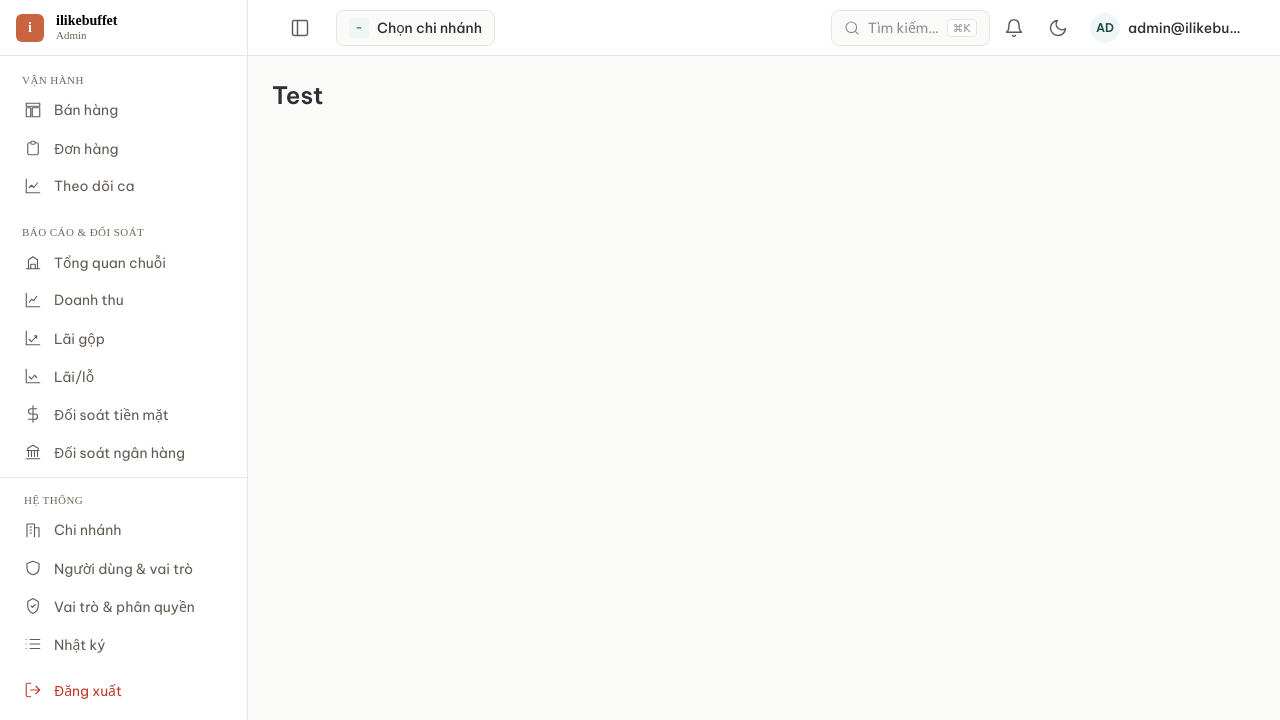
Test case: Command palette › opens when the search button is clicked
Click the button labelled "Tìm kiếm… ⌘K": (910, 28) [831, 10, 990, 46]
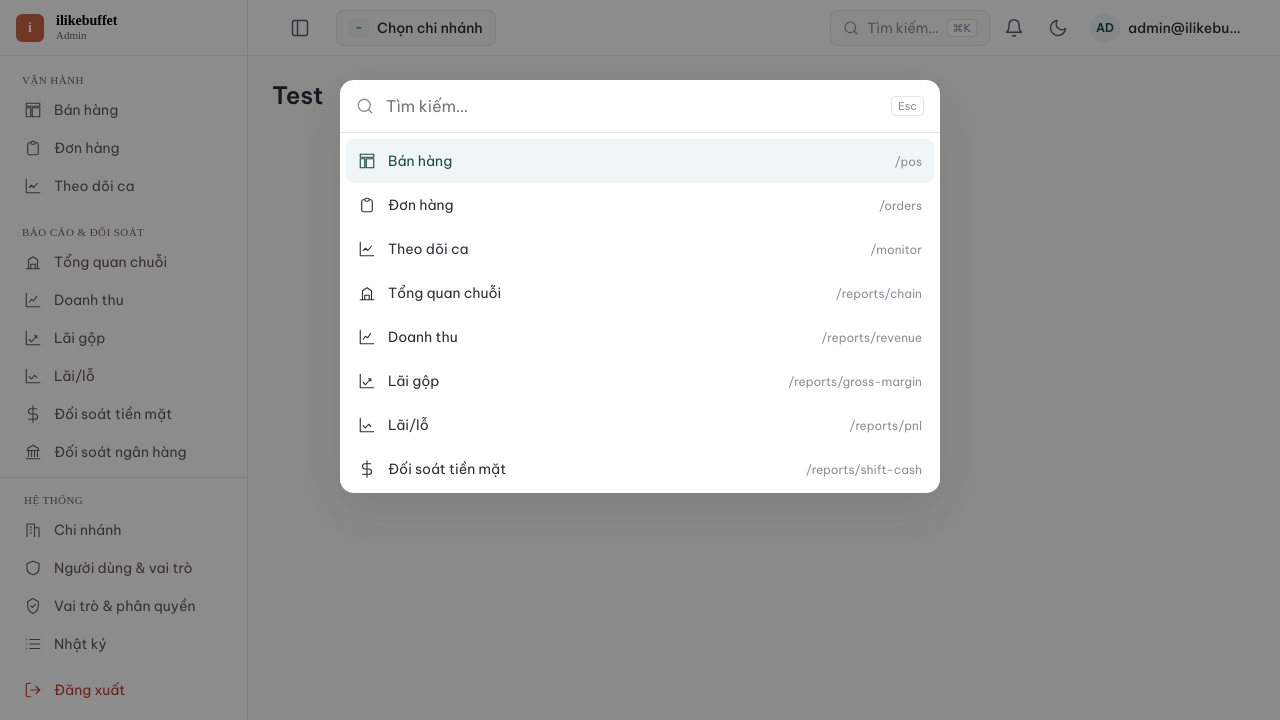
Expected: the dialog named "Tìm kiếm và điều hướng" is shown
